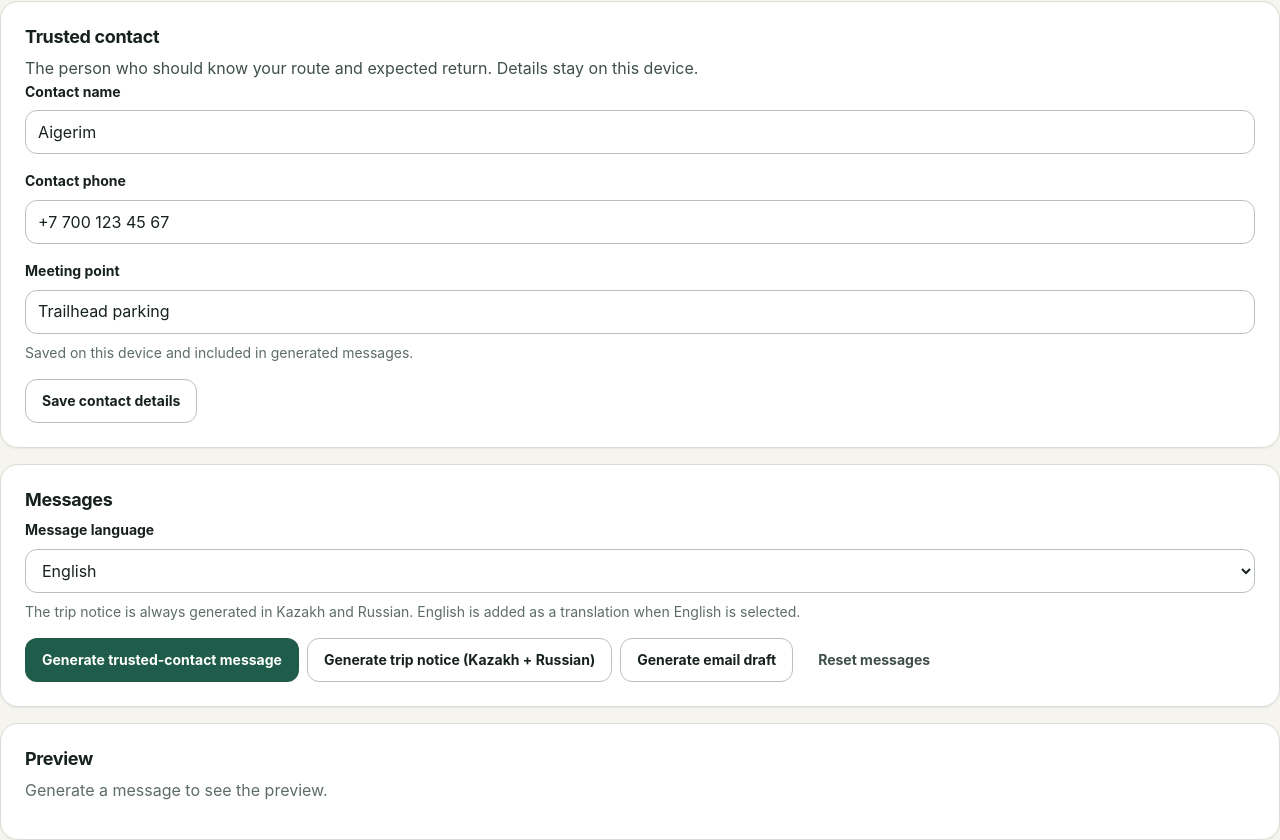
Test: SharePage › generates on request only and keeps generated versus sent status explicit
(page scrolled)
Click the button "Generate trusted-contact message" at (162, 660), box [25,638,299,682]
(page scrolled)
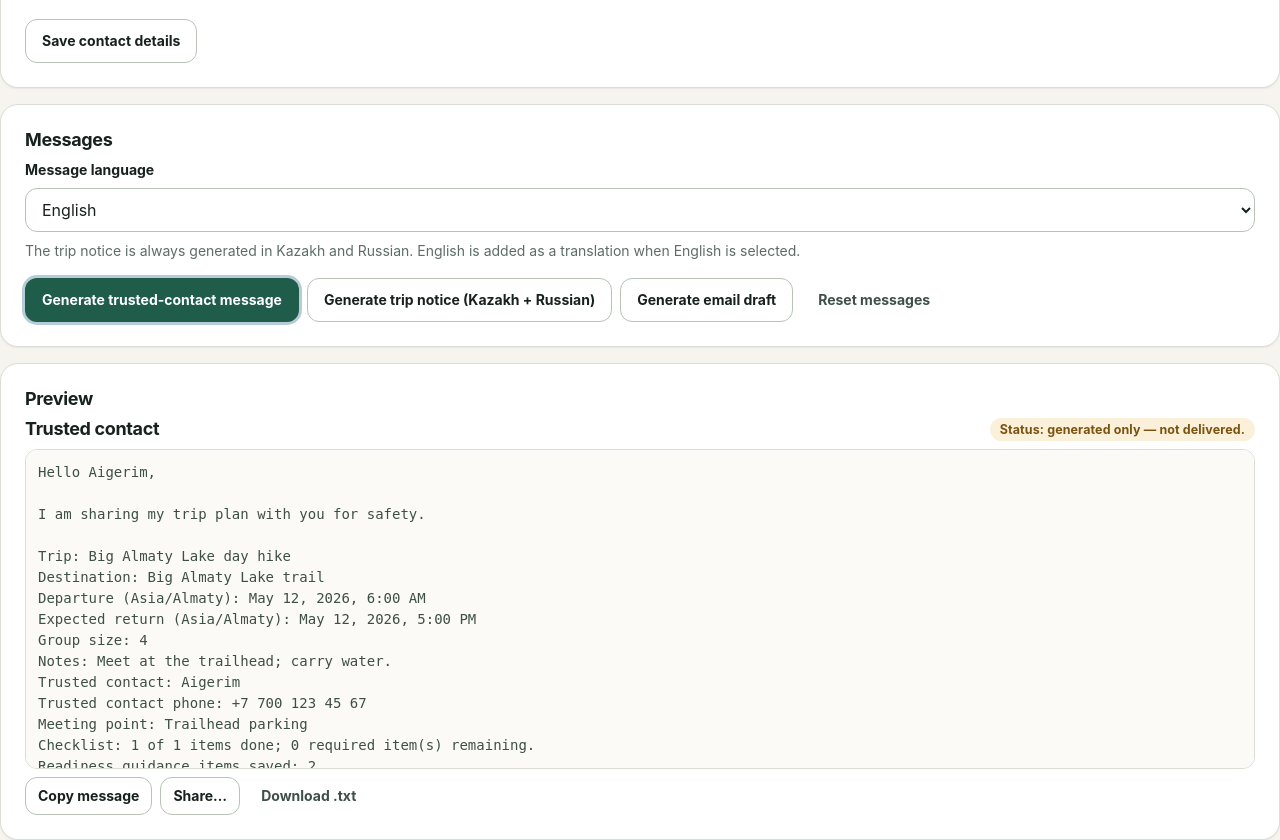
Click the button with aria-label "Copy message — English" at (89, 796), box [25,777,152,815]
(page scrolled)
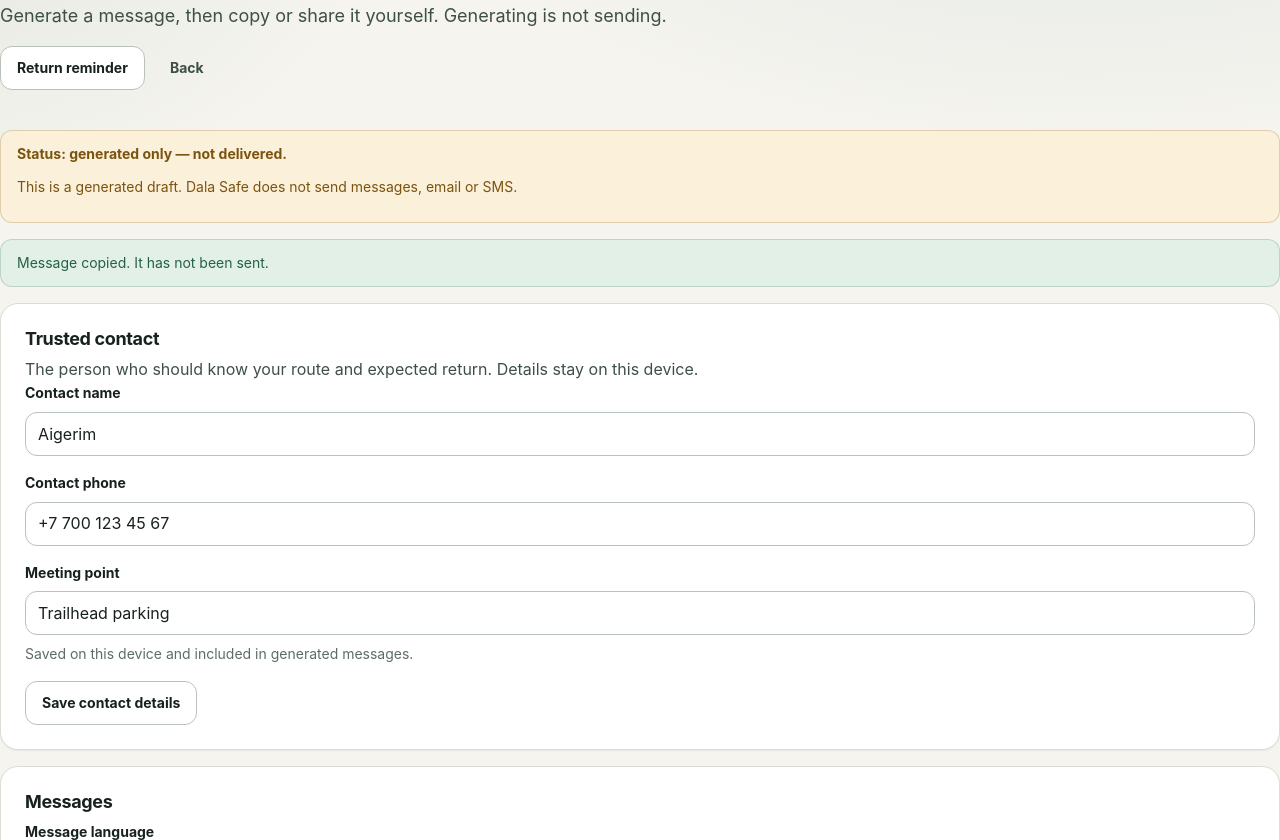
Expected: the text "Message copied. It has not been sent." is shown, [0,239,1279,287]
